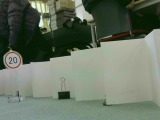speed_20: (1, 49, 24, 71)
